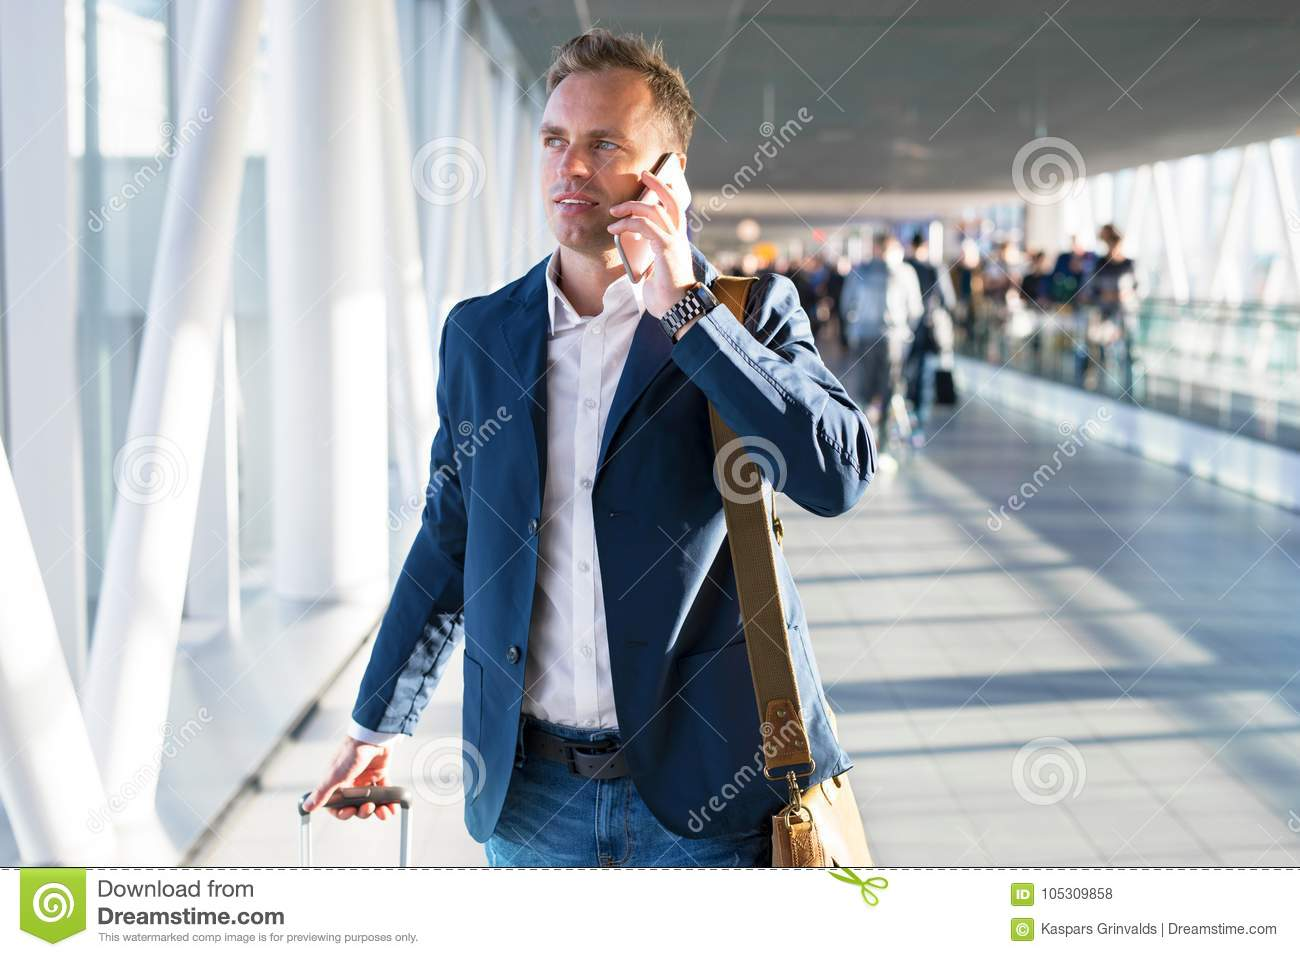phone: (615, 154, 693, 285)
talk: (539, 116, 697, 313)
